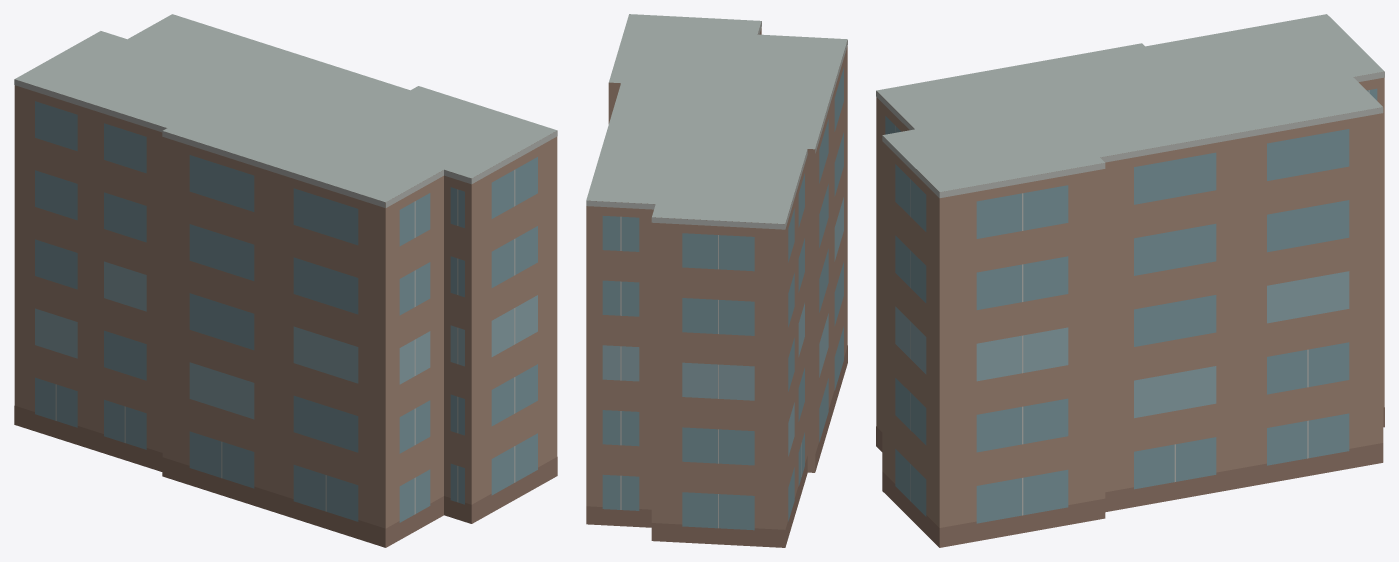
Rendered from survey-upis-32791930.glb.
The picture shows the model from 3 angles, left to right: view 1: azimuth 30°, elevation 25°; view 2: azimuth 150°, elevation 25°; view 3: azimuth 270°, elevation 25°; orthographic projection. The views are drawn at different scales.
Visible parts, largest first — view 1: survey-upis-32791930.tmp; view 2: survey-upis-32791930.tmp; view 3: survey-upis-32791930.tmp.
Boxes of the visible parts, x1,y1,x2,y2 form: survey-upis-32791930.tmp: (14,14,557,547); survey-upis-32791930.tmp: (586,14,847,547); survey-upis-32791930.tmp: (876,14,1384,547).
Bounding box in the file's own units: 15.43 × 14.35 × 18.61.
